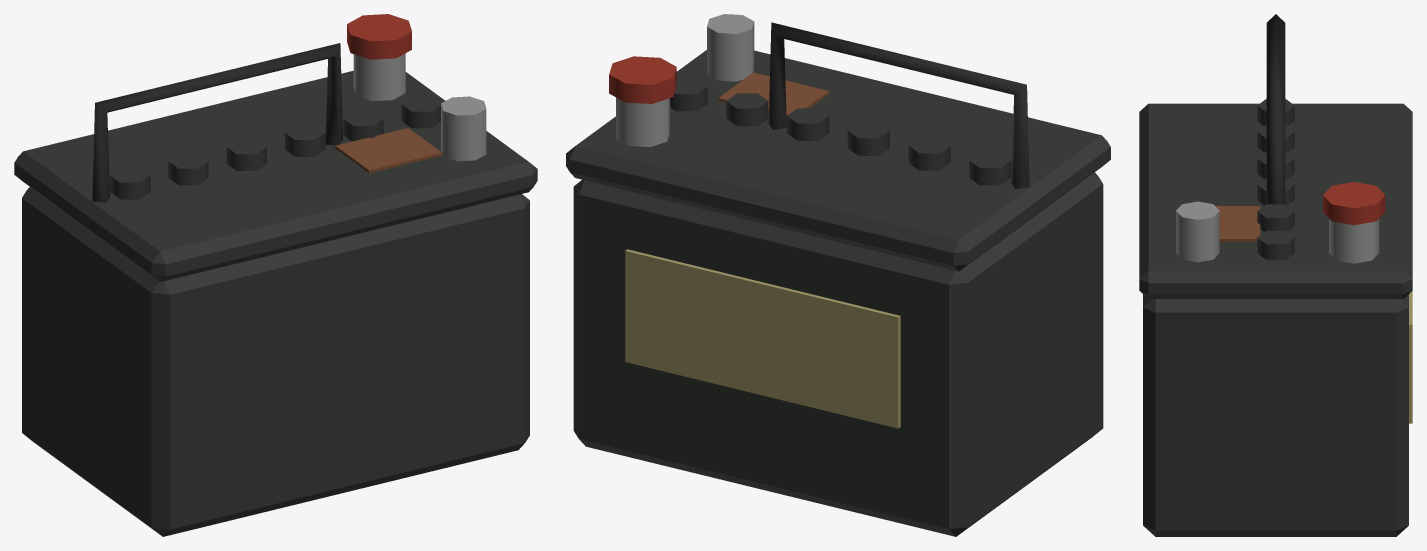
Rendered from part_battery_std.glb.
The picture shows the model from 3 angles, left to right: view 1: azimuth 30°, elevation 25°; view 2: azimuth 150°, elevation 25°; view 3: azimuth 270°, elevation 25°; orthographic projection. The views are drawn at different scales.
Parts seen in each view (by area): view 1: part_battery_std; view 2: part_battery_std; view 3: part_battery_std.
Boxes of the visible parts, bbox=[...] form: part_battery_std: bbox=[14, 14, 537, 536]; part_battery_std: bbox=[566, 14, 1110, 536]; part_battery_std: bbox=[1139, 14, 1412, 536].
Bounding box in the file's own units: 0.265 × 0.2542 × 0.175.
